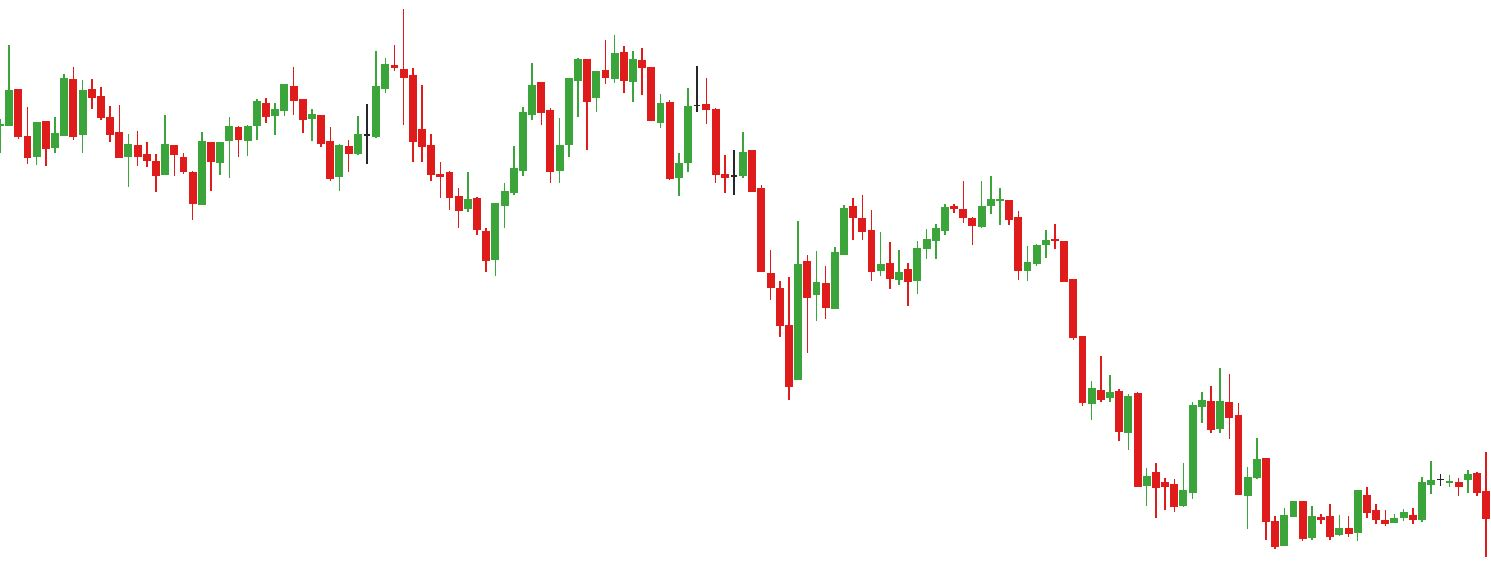sell: (289, 3, 408, 133), (848, 173, 968, 266), (1123, 363, 1216, 451)
